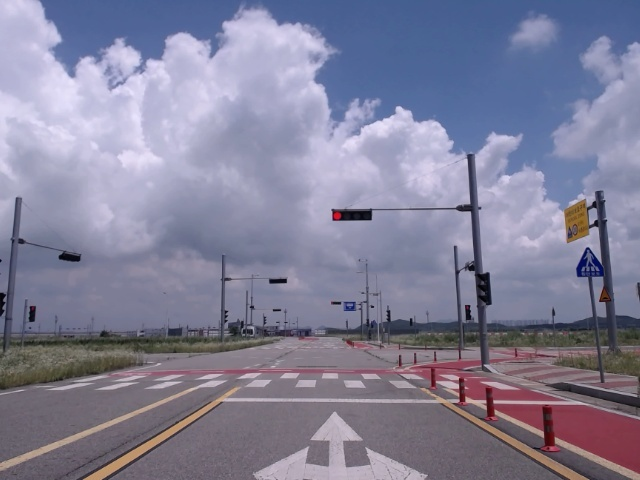red_4: (332, 210, 372, 221)
